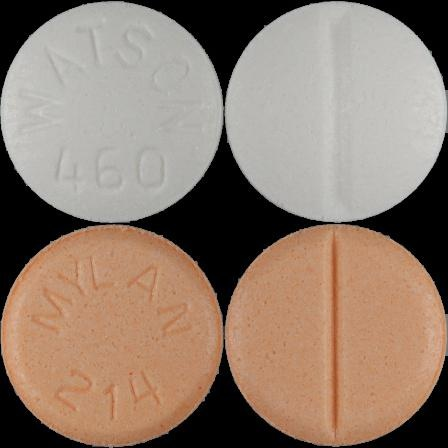53808-0369: (0, 0, 224, 224)
